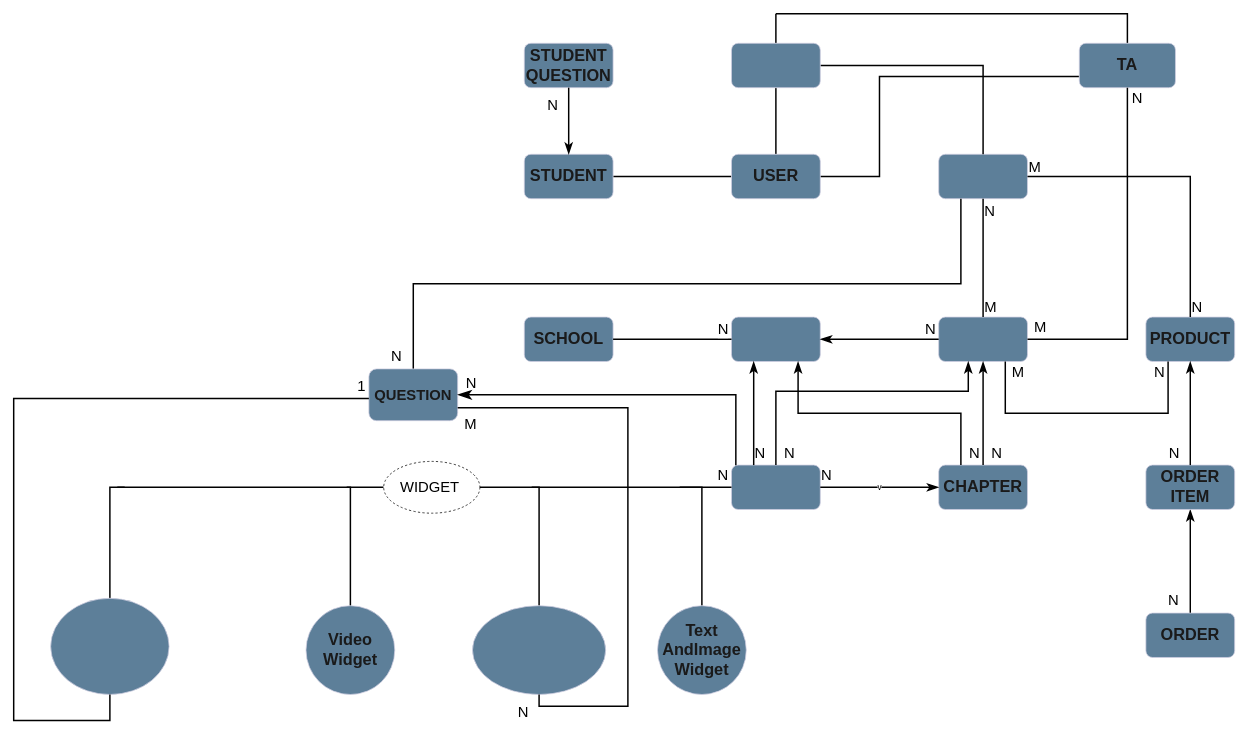
Image size: 1248x736. Some labels were removed from this diagram. The box of each missing label's shape, as (x1, y1, x2, y2) in pixels:
ADMIN: (731, 43, 820, 88)
GRADE: (731, 316, 820, 361)
LESSON: (731, 464, 820, 509)
MCQ Widget: (472, 605, 606, 694)
single Question Widget Content: (50, 598, 169, 694)
SUBJECT: (938, 316, 1027, 361)
TEACHER: (938, 154, 1027, 199)
